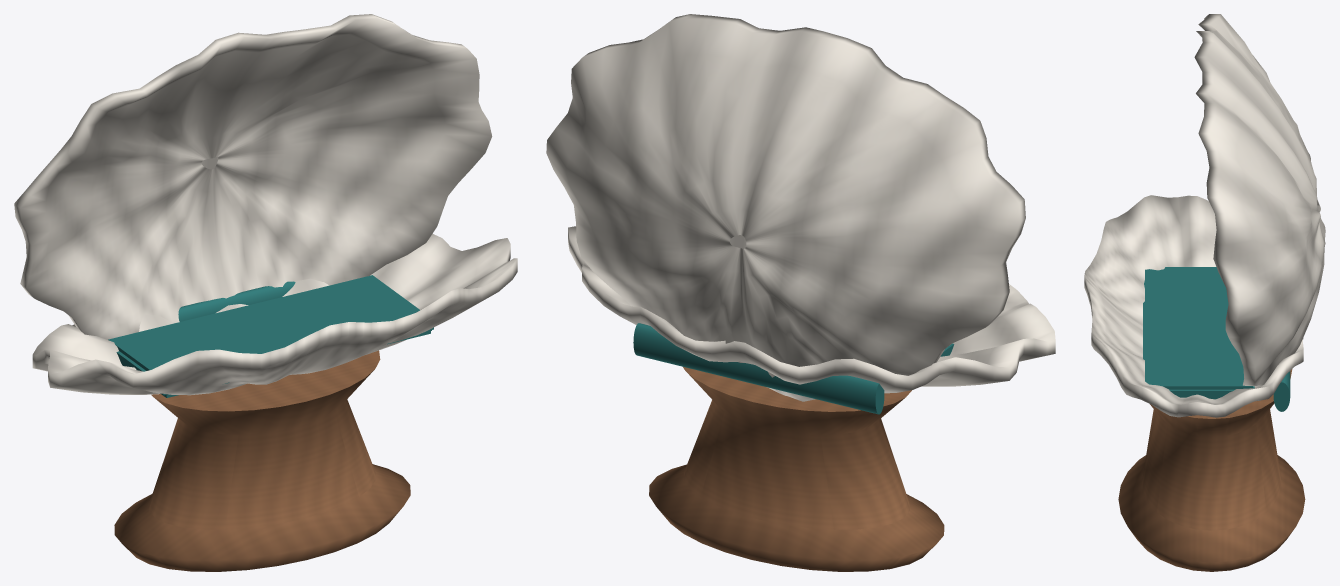
3 views of the same model, side by side, from view 1: azimuth 30°, elevation 25°; view 2: azimuth 150°, elevation 25°; view 3: azimuth 270°, elevation 25° (orthographic). The views are drawn at different scales.
Parts seen in each view (by area): view 1: Upper valve, Teak foot and mineral pedestal, Lower valve, Hinge and level gift shelf; view 2: Upper valve, Teak foot and mineral pedestal, Lower valve, Hinge and level gift shelf; view 3: Upper valve, Teak foot and mineral pedestal, Lower valve, Hinge and level gift shelf.
Part boxes in pixels (x1,y1,x2,y2): Upper valve: (14,14,492,339); Teak foot and mineral pedestal: (114,350,410,571); Lower valve: (32,233,517,395); Hinge and level gift shelf: (108,275,433,397); Upper valve: (546,14,1025,401); Teak foot and mineral pedestal: (649,367,944,571); Lower valve: (568,226,1055,393); Hinge and level gift shelf: (633,323,954,414); Upper valve: (1194,14,1325,386); Teak foot and mineral pedestal: (1118,369,1305,571); Lower valve: (1084,195,1303,417); Hinge and level gift shelf: (1143,267,1290,411).
Size of the model in its own units: 2.6 by 2.62 by 1.24.
Materials: 1 (1 with a texture image).
